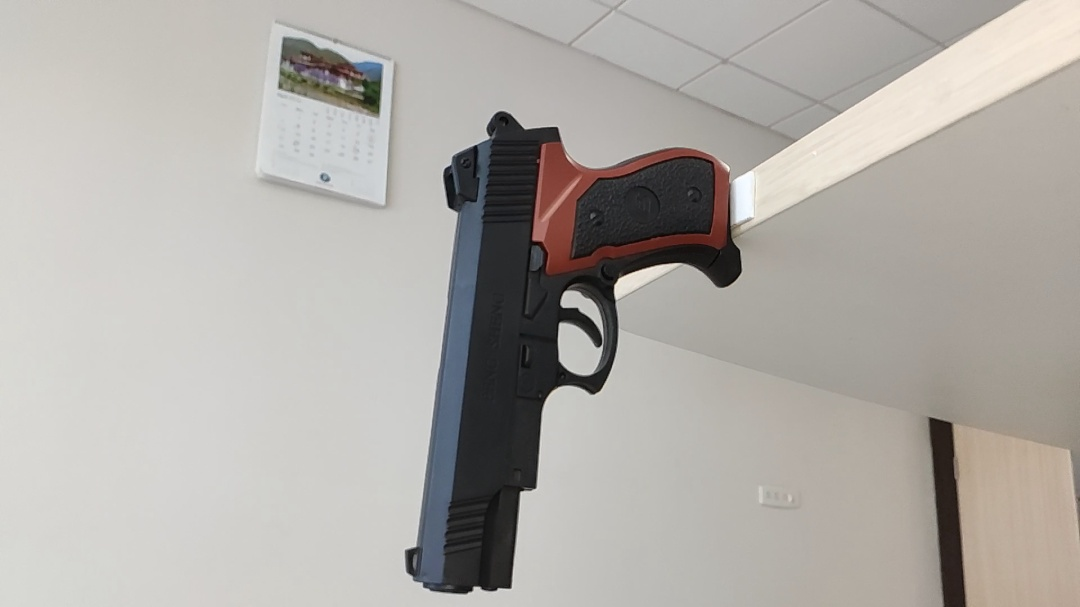gun: (398, 111, 745, 601)
